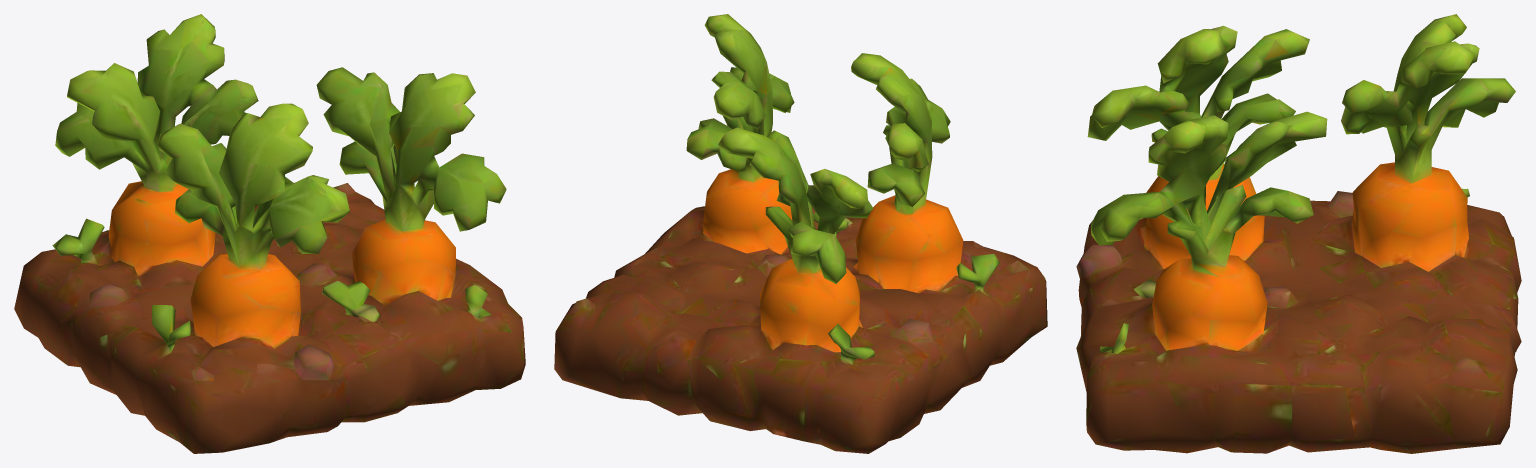
3 views of the same model, side by side, from view 1: azimuth 30°, elevation 25°; view 2: azimuth 150°, elevation 25°; view 3: azimuth 270°, elevation 25° (orthographic). The views are drawn at different scales.
Parts seen in each view (by area): view 1: carrots-ready; view 2: carrots-ready; view 3: carrots-ready.
Boxes of the visible parts, x1,y1,x2,y2 form: carrots-ready: [14, 14, 525, 453]; carrots-ready: [554, 14, 1047, 453]; carrots-ready: [1076, 14, 1521, 453].
Bounding box in the file's own units: 0.7985 × 0.6389 × 0.8032.
1 material, 1 textured.
